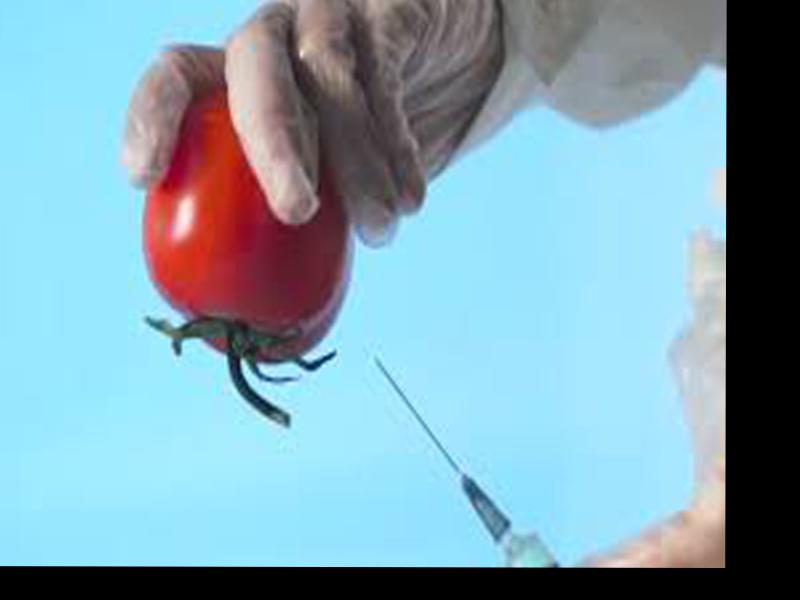Tomato: (141, 87, 349, 362)
